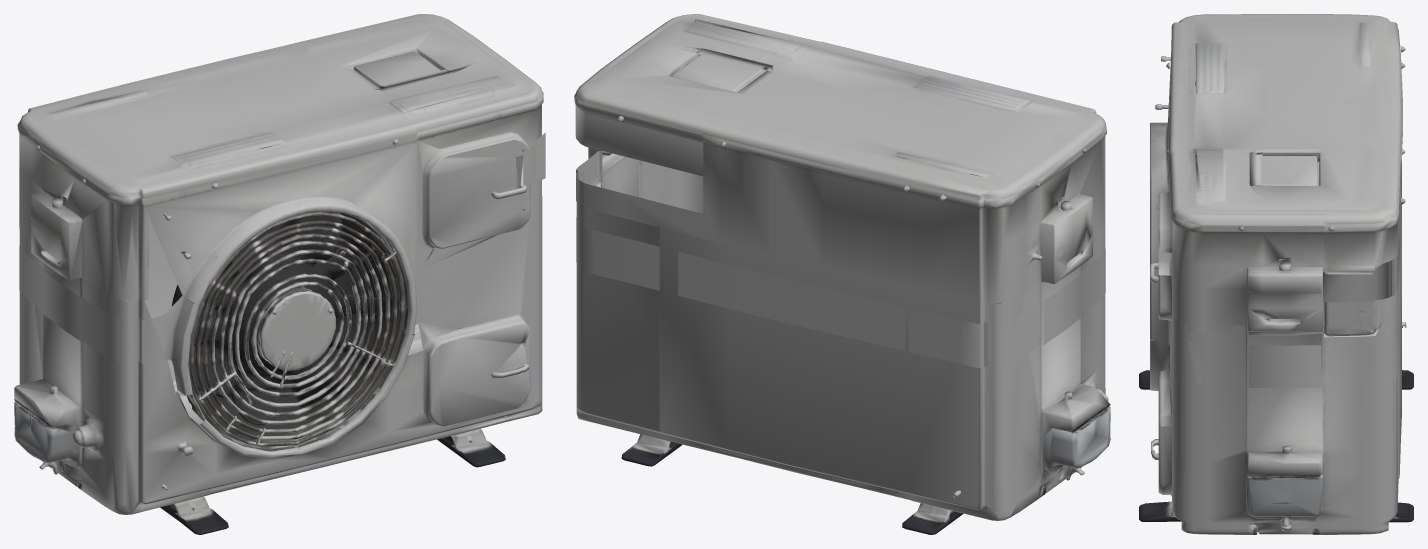
File: pac.glb
3 views of the same model, side by side, from view 1: azimuth 30°, elevation 25°; view 2: azimuth 150°, elevation 25°; view 3: azimuth 270°, elevation 25° (orthographic). The views are drawn at different scales.
Visible parts, largest first — view 1: tripo_node_4d6e1565-6d8b-41ab-93b7-855e535197ac; view 2: tripo_node_4d6e1565-6d8b-41ab-93b7-855e535197ac; view 3: tripo_node_4d6e1565-6d8b-41ab-93b7-855e535197ac.
Boxes of the visible parts, x1=… form: tripo_node_4d6e1565-6d8b-41ab-93b7-855e535197ac: x1=14, y1=14, x2=545, y2=534; tripo_node_4d6e1565-6d8b-41ab-93b7-855e535197ac: x1=574, y1=14, x2=1110, y2=534; tripo_node_4d6e1565-6d8b-41ab-93b7-855e535197ac: x1=1139, y1=14, x2=1413, y2=534.
Bounding box in the file's own units: 1 × 0.6673 × 0.4911.
Materials: 1 (1 with a texture image).
